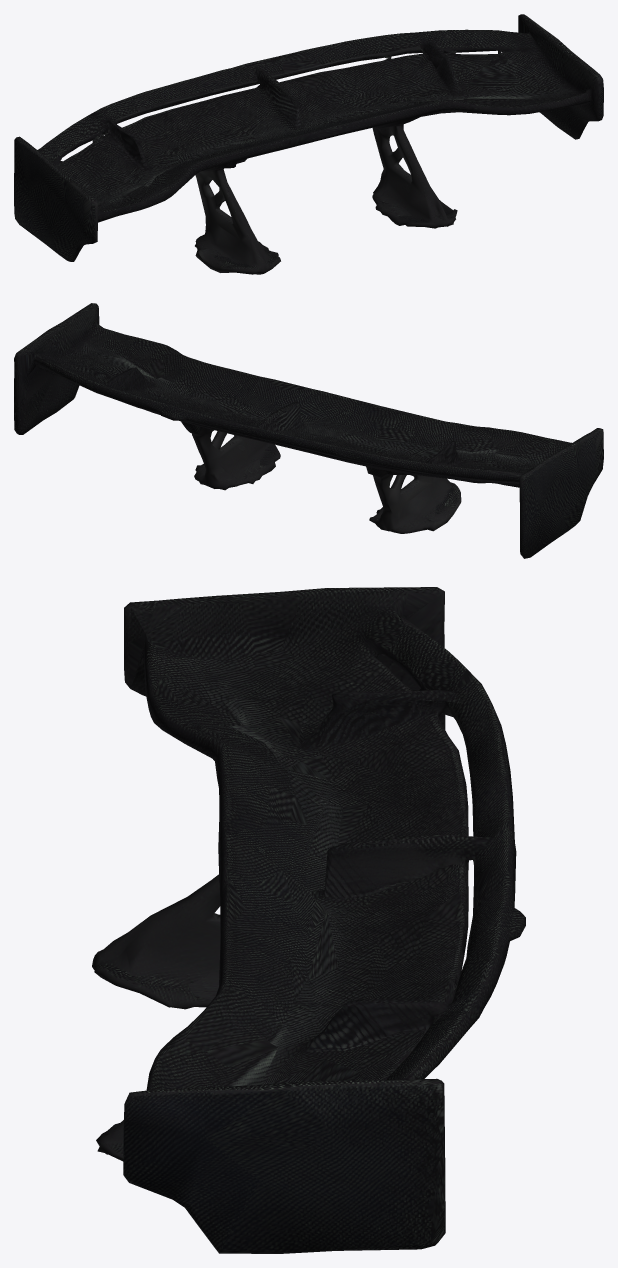
Rendered from rear_wing_gt.obj.
The picture shows the model from 3 angles, top to bottom: view 1: azimuth 30°, elevation 25°; view 2: azimuth 150°, elevation 25°; view 3: azimuth 270°, elevation 25°; orthographic projection. The views are drawn at different scales.
Parts seen in each view (by area): view 1: rear_wing; view 2: rear_wing; view 3: rear_wing.
Boxes of the visible parts, x1,y1,x2,y2 form: rear_wing: (14, 14, 603, 274); rear_wing: (14, 303, 603, 558); rear_wing: (92, 587, 525, 1253).
Size of the model in its own units: 1.15 by 0.2638 by 0.4227.
